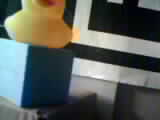duck: (6, 2, 80, 53)
